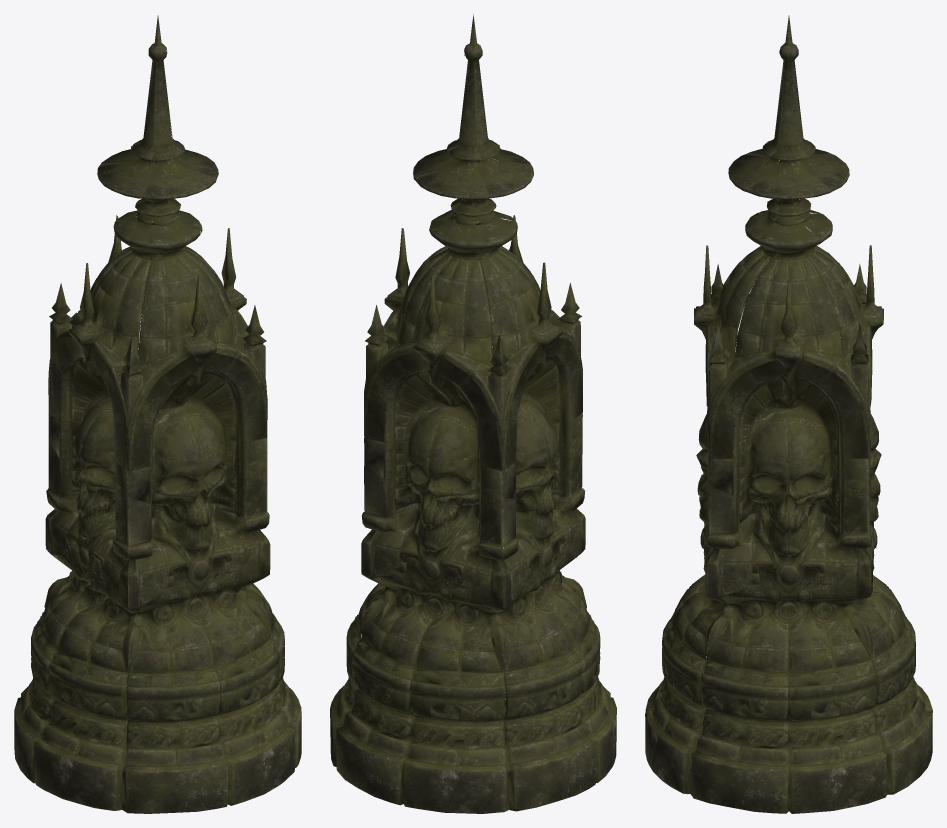
The model's file is Ruins_Statue_A_Side-transformed.glb.
3 views of the same model, side by side, from view 1: azimuth 30°, elevation 25°; view 2: azimuth 150°, elevation 25°; view 3: azimuth 270°, elevation 25° (orthographic).
Visible parts, largest first — view 1: Ruins_Statue_A_Side; view 2: Ruins_Statue_A_Side; view 3: Ruins_Statue_A_Side.
Part boxes in pixels (x1=…): Ruins_Statue_A_Side: x1=14, y1=15, x2=301, y2=813; Ruins_Statue_A_Side: x1=330, y1=14, x2=616, y2=813; Ruins_Statue_A_Side: x1=645, y1=15, x2=932, y2=813.
Size of the model in its own units: 7.71 by 21.89 by 7.71.
Materials: 1 (1 with a texture image).
